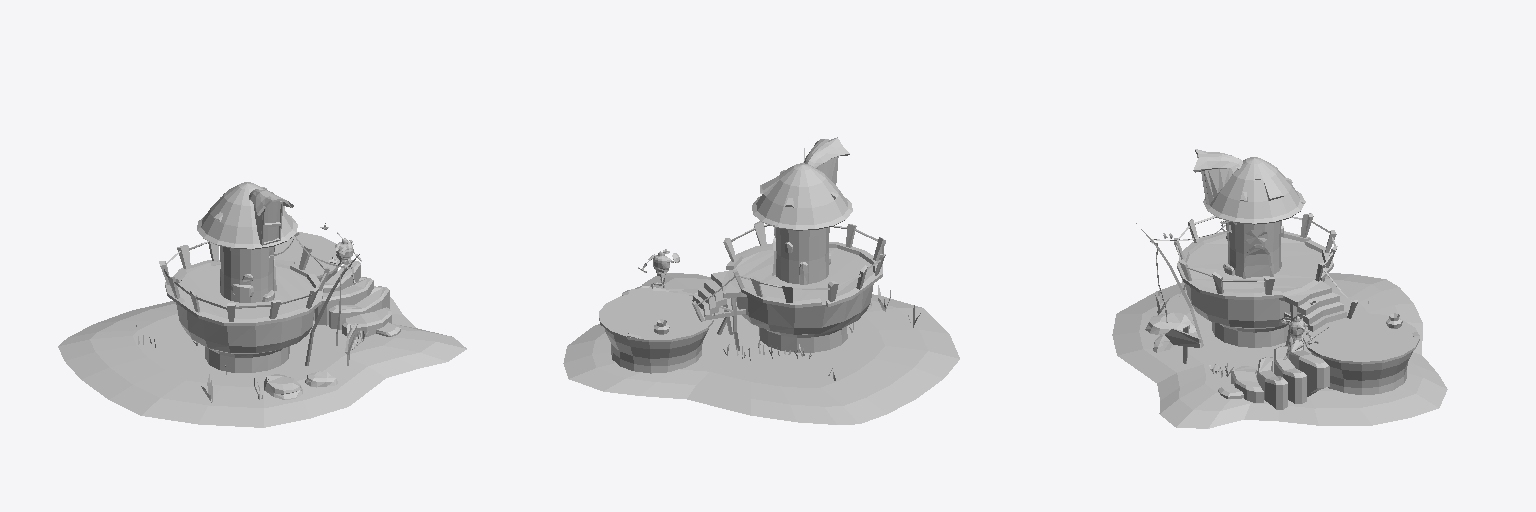
Rendered from dragon.obj.
3 renders of one model, left to right at view 1: azimuth 30°, elevation 25°; view 2: azimuth 150°, elevation 25°; view 3: azimuth 270°, elevation 25°, orthographic.
Parts seen in each view (by area): view 1: house.001_house; view 2: house.001_house; view 3: house.001_house.
Boxes of the visible parts, box(x1,y1,x2,y2) form: house.001_house: box(58, 182, 466, 427); house.001_house: box(563, 137, 959, 424); house.001_house: box(1112, 149, 1447, 428).
Size of the model in its own units: 11.73 by 6.53 by 10.55.